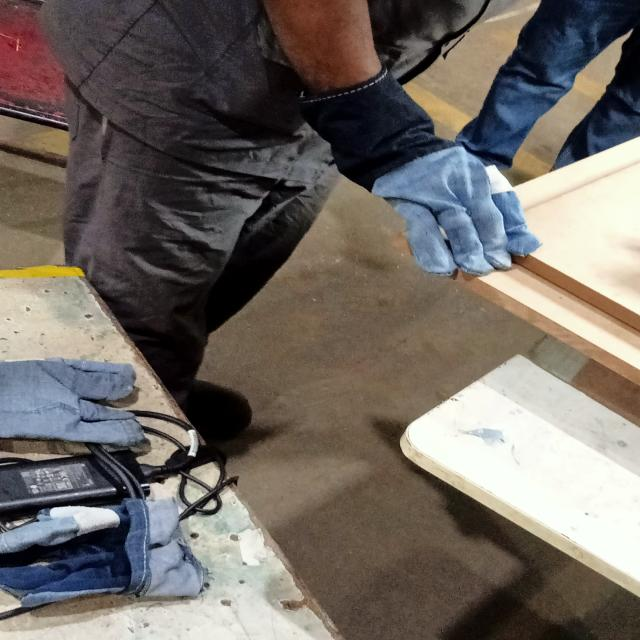Gloves-Detection: (295, 75, 533, 300)
